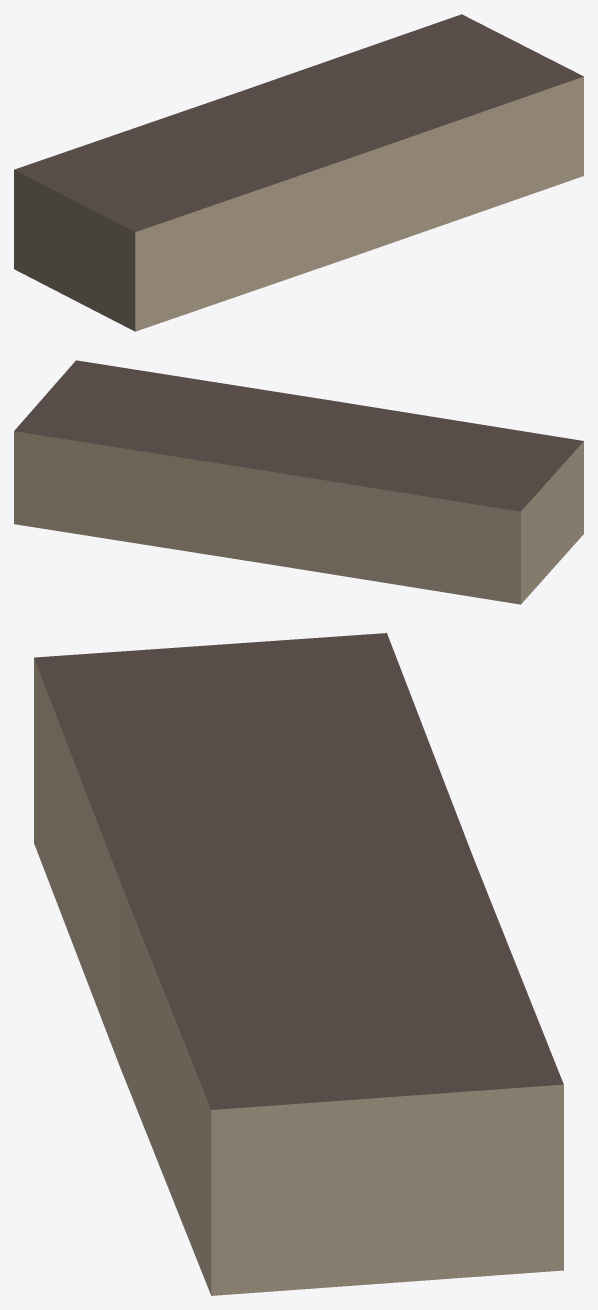
3 renders of one model, top to bottom at view 1: azimuth 30°, elevation 25°; view 2: azimuth 150°, elevation 25°; view 3: azimuth 270°, elevation 25°, orthographic. The views are drawn at different scales.
Visible parts, largest first — view 1: HP-w449058939; view 2: HP-w449058939; view 3: HP-w449058939.
Part boxes in pixels (x1,y1,x2,y2): HP-w449058939: (14,14,583,331); HP-w449058939: (14,360,583,604); HP-w449058939: (34,633,563,1295).
Size of the model in its own units: 49.51 by 9 by 23.24.
